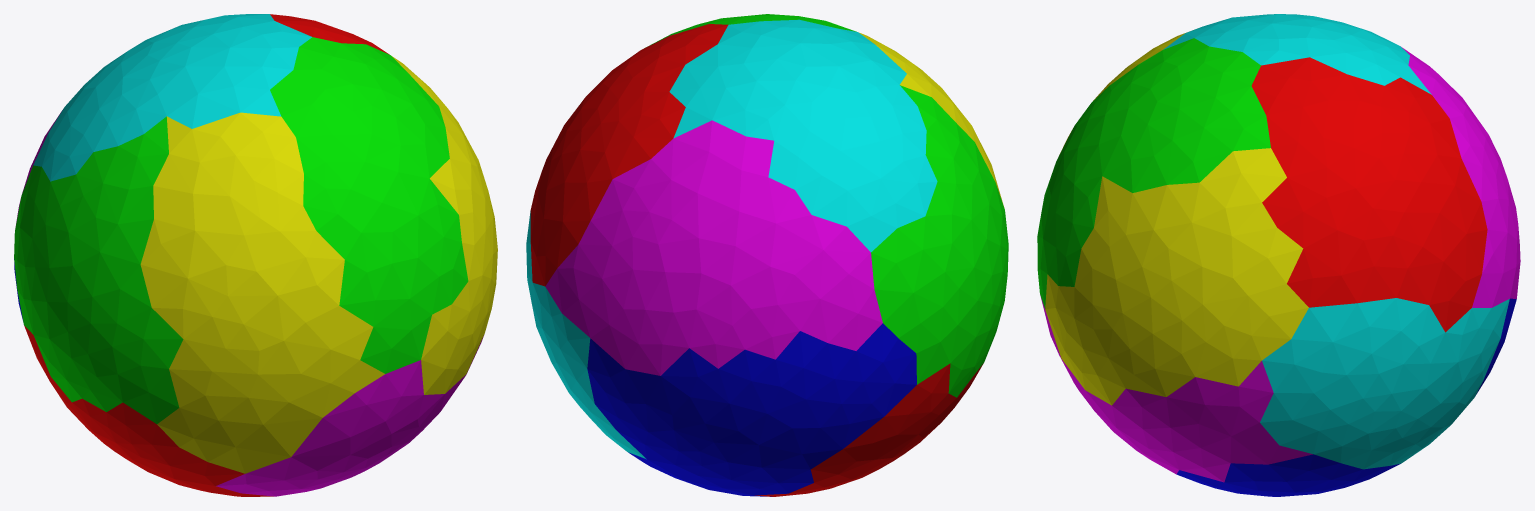
The model's file is SphereH_4.fbx.
3 renders of one model, left to right at view 1: azimuth 30°, elevation 25°; view 2: azimuth 150°, elevation 25°; view 3: azimuth 270°, elevation 25°, orthographic.
Size of the model in its own units: 2 by 2 by 2.
